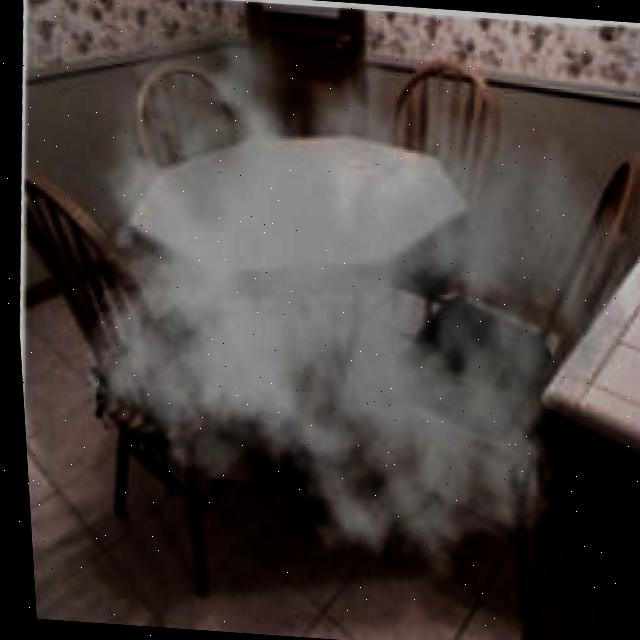Smoke: (29, 0, 640, 594)
